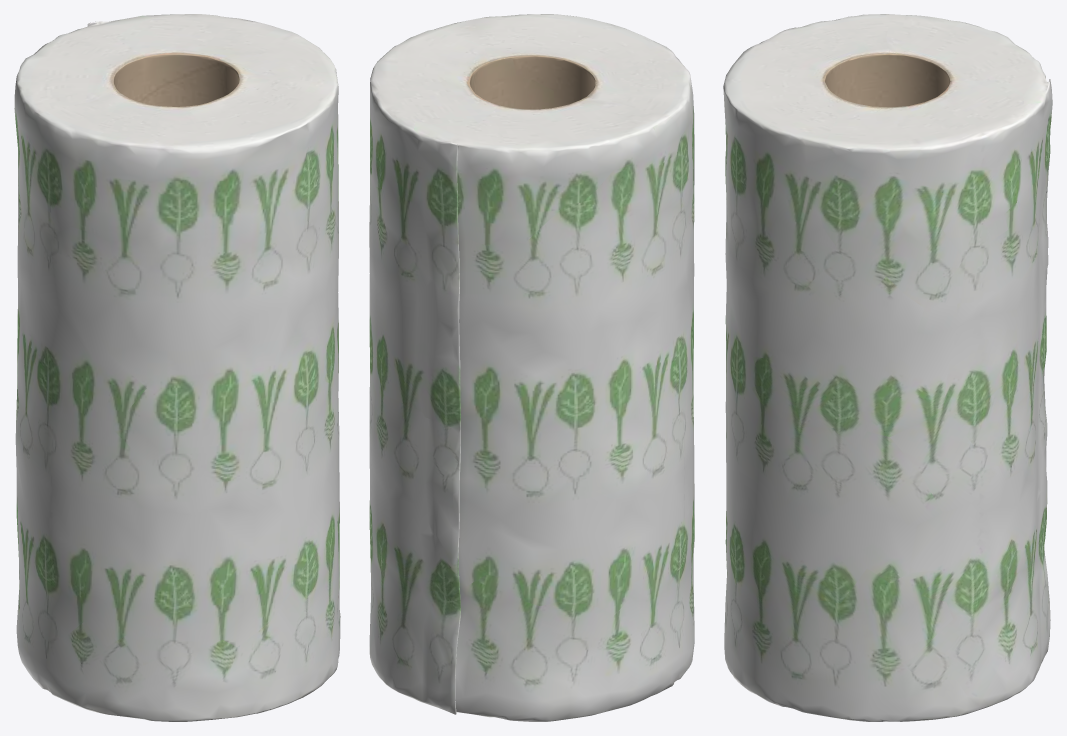
File: FAMILJ Essuie-tout à motifs vert vif-blanc.glb
The picture shows the model from 3 angles, left to right: view 1: azimuth 30°, elevation 25°; view 2: azimuth 150°, elevation 25°; view 3: azimuth 270°, elevation 25°; orthographic projection.
Visible parts, largest first — view 1: 40530743-FAMILJ001; view 2: 40530743-FAMILJ001; view 3: 40530743-FAMILJ001.
Boxes of the visible parts, box(x1,y1,x2,y2) form: 40530743-FAMILJ001: box(14, 14, 340, 721); 40530743-FAMILJ001: box(369, 14, 694, 721); 40530743-FAMILJ001: box(723, 14, 1052, 721).
Size of the model in its own units: 0.1164 by 0.2272 by 0.1178.
1 material, 1 textured.
